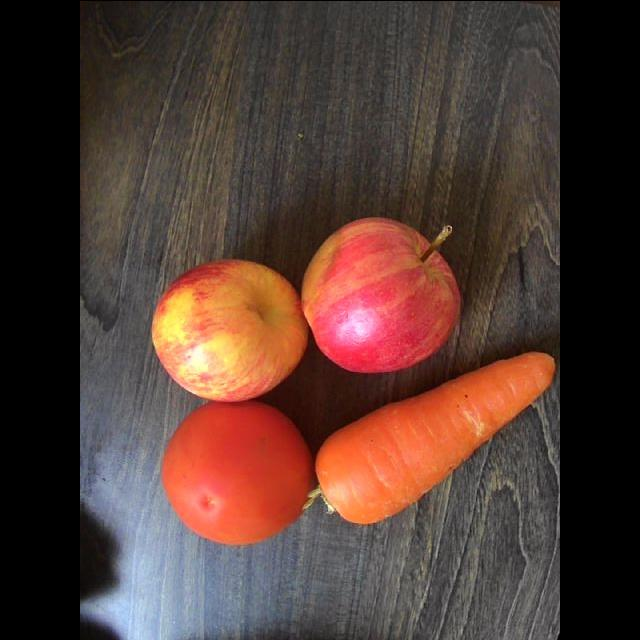manzana: (302, 217, 459, 372), (152, 259, 307, 399)
tomate: (161, 400, 313, 543)
zanahoria: (304, 351, 554, 523)
